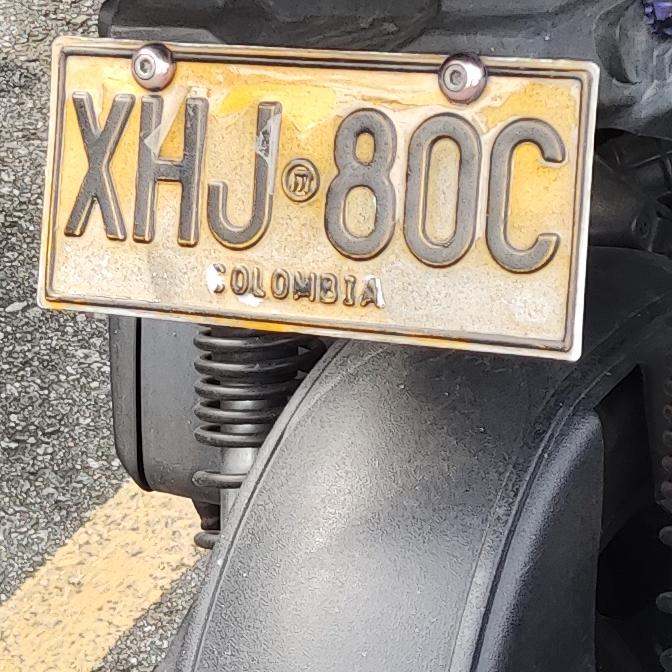plates: (39, 41, 597, 358)
